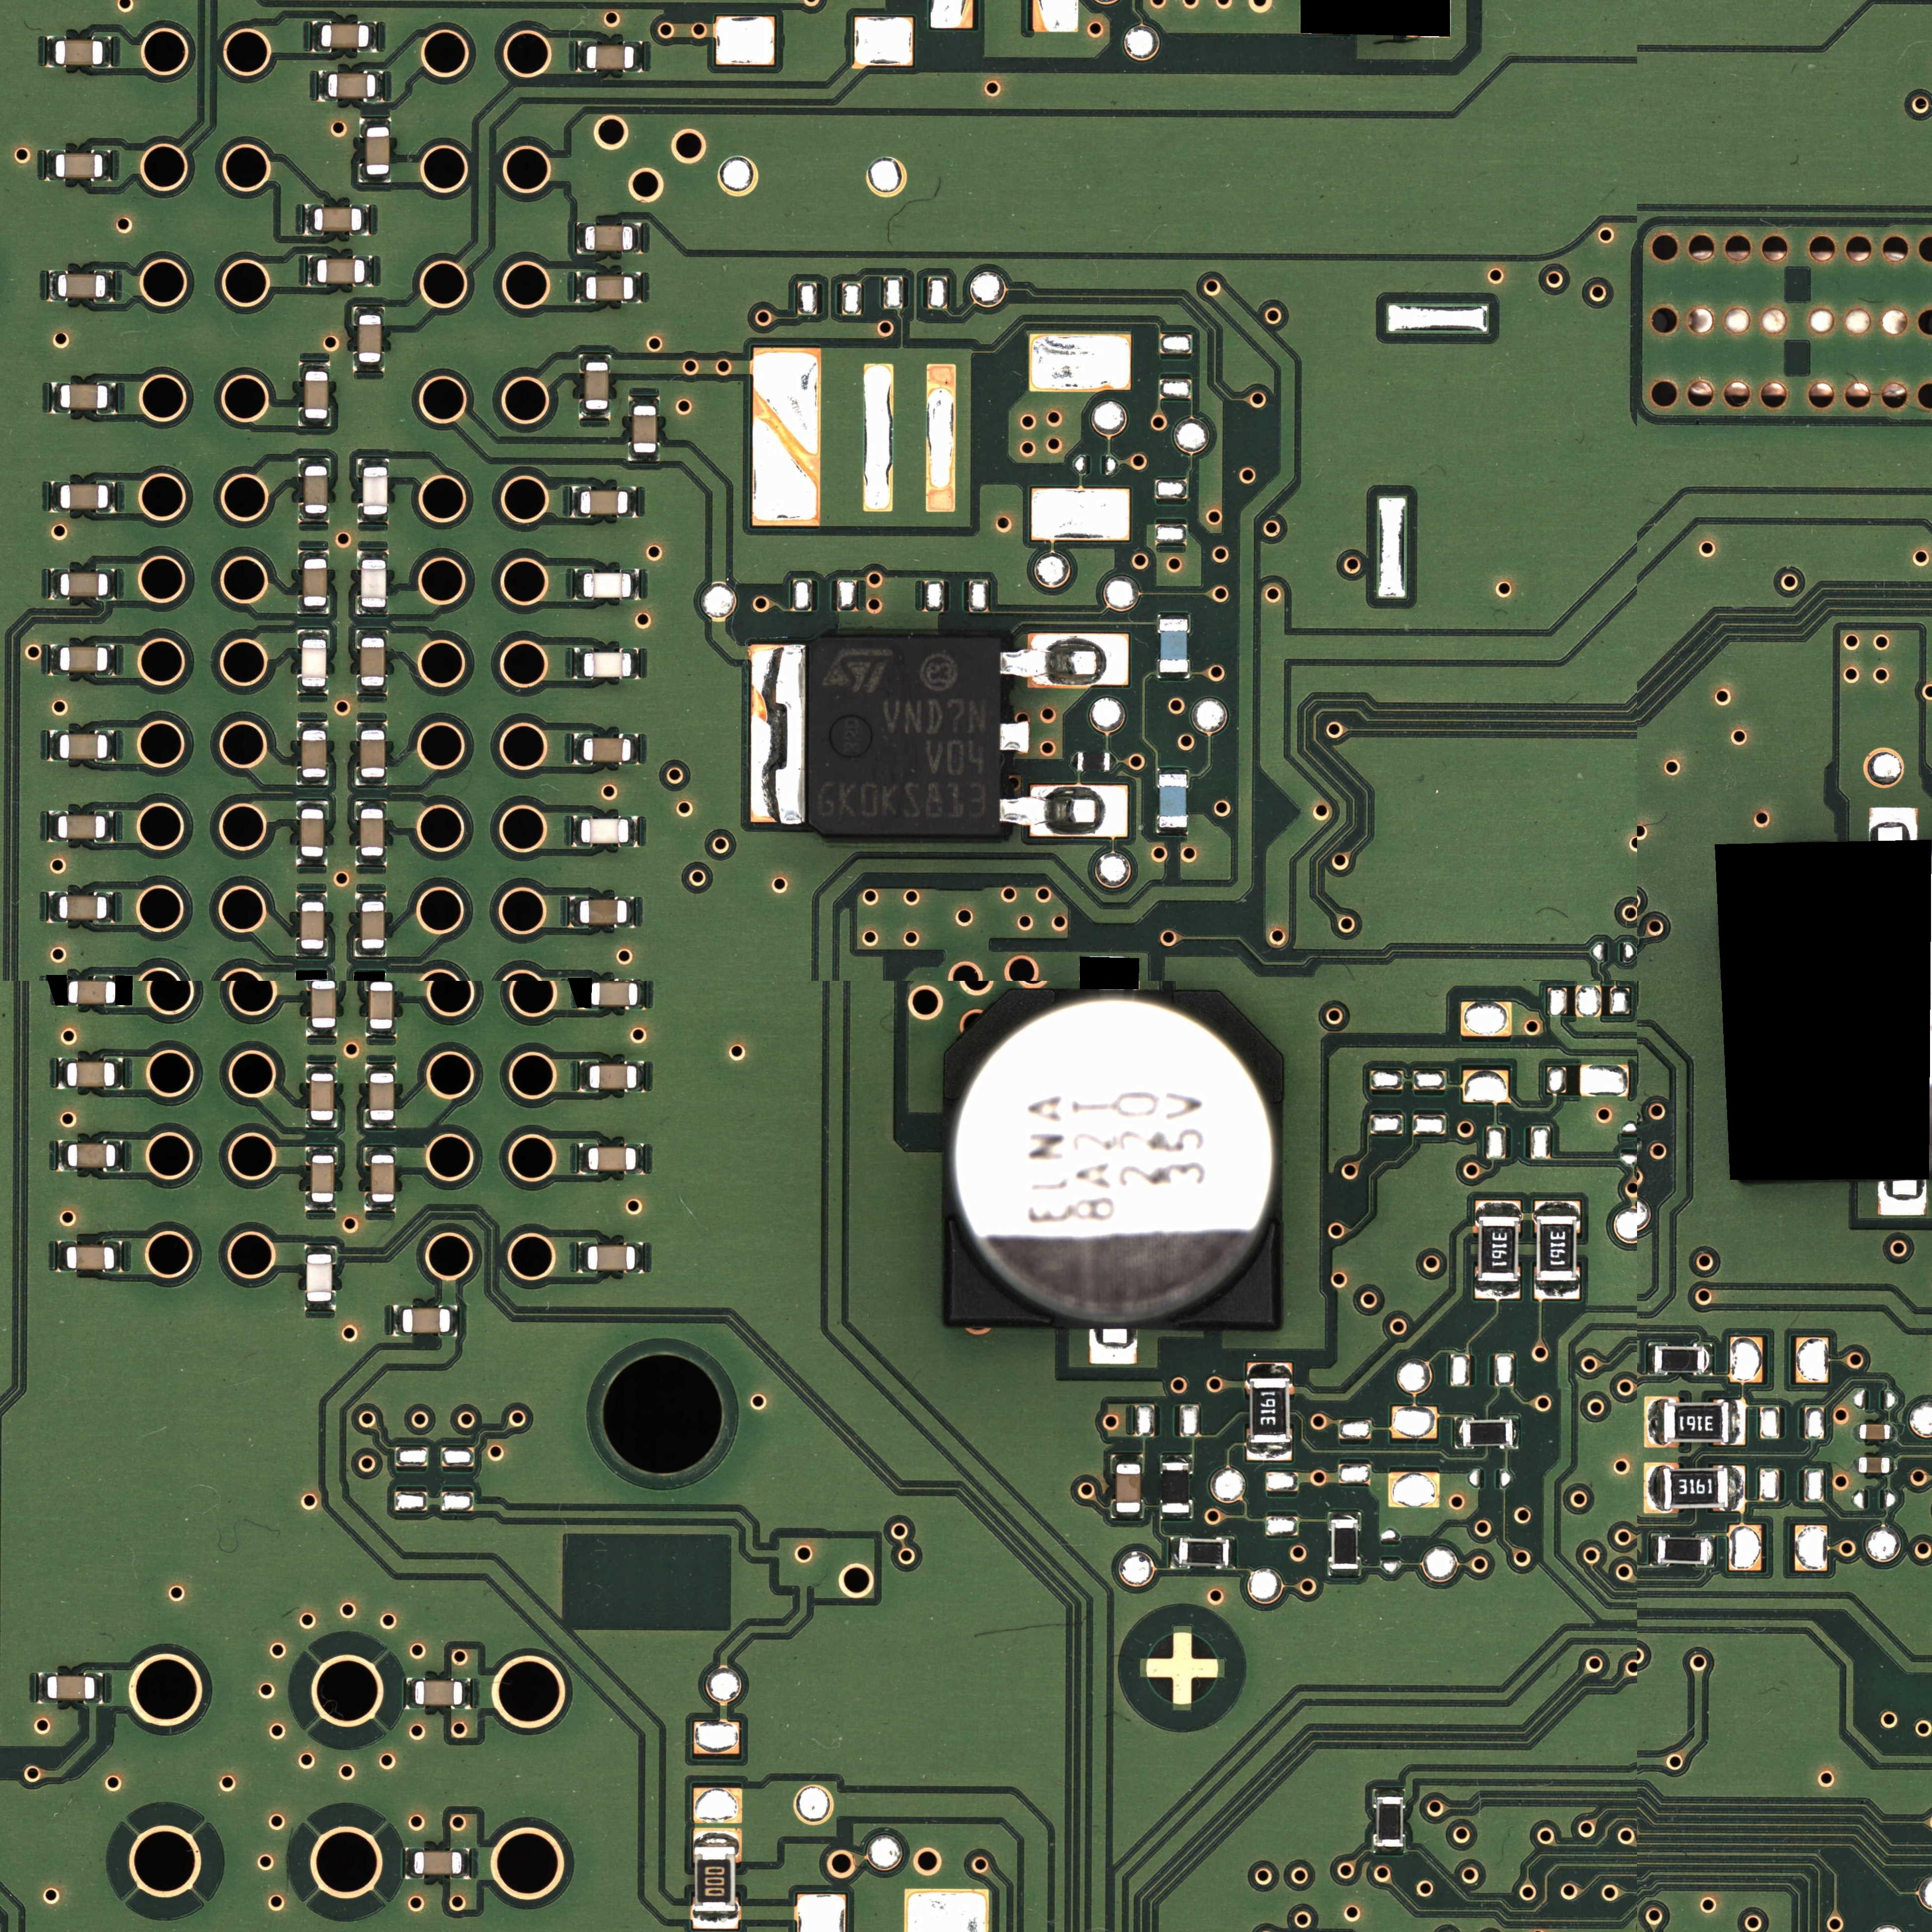Package: (945, 989, 1281, 1328), (808, 639, 1000, 834), (694, 1847, 735, 1912), (1478, 1216, 1518, 1282), (1664, 1402, 1729, 1442), (1663, 1468, 1728, 1508), (1537, 1216, 1577, 1281), (1250, 1379, 1289, 1443), (1160, 619, 1188, 672), (1159, 774, 1187, 827), (1161, 1462, 1189, 1512), (1655, 1347, 1705, 1373), (1377, 1797, 1403, 1846), (1658, 1538, 1708, 1563), (1179, 1540, 1229, 1565), (1462, 1420, 1512, 1446), (1332, 1520, 1357, 1569), (59, 734, 107, 759), (585, 226, 633, 251), (1115, 1464, 1140, 1512), (60, 647, 107, 672), (307, 1254, 332, 1302), (60, 484, 108, 509), (55, 41, 103, 65), (67, 1062, 115, 1087), (402, 1308, 450, 1333), (580, 900, 627, 924), (361, 560, 386, 607), (60, 385, 108, 409), (581, 819, 628, 843), (583, 573, 630, 598), (583, 652, 631, 677), (415, 1681, 462, 1705), (587, 1246, 635, 1270), (59, 896, 107, 920), (317, 259, 365, 284), (363, 468, 387, 515), (370, 1073, 394, 1120), (58, 815, 105, 839), (583, 738, 630, 762), (328, 74, 375, 98), (586, 276, 633, 300), (55, 154, 103, 178), (589, 1065, 637, 1089), (360, 730, 385, 777), (586, 46, 634, 69), (361, 638, 385, 686), (580, 490, 628, 515), (302, 730, 326, 777), (302, 639, 326, 686), (321, 24, 369, 48), (314, 208, 361, 232), (58, 274, 105, 298), (414, 1851, 462, 1875), (588, 1147, 636, 1171), (66, 1246, 114, 1270), (67, 1144, 115, 1167), (48, 1676, 95, 1699), (360, 810, 384, 856), (366, 128, 389, 175), (304, 372, 328, 419), (371, 1155, 394, 1202), (633, 406, 657, 452), (60, 573, 107, 596), (361, 901, 385, 949), (312, 980, 336, 1028), (301, 810, 324, 857), (301, 902, 324, 949), (304, 467, 328, 514), (69, 980, 115, 1004), (303, 559, 327, 606), (310, 1073, 334, 1120), (585, 362, 608, 409), (358, 315, 381, 362), (311, 1156, 334, 1202), (591, 982, 637, 1005), (370, 982, 393, 1028), (1077, 753, 1110, 771), (1859, 1457, 1889, 1473), (1860, 1424, 1890, 1440)
Solder: (750, 642, 807, 824), (1001, 633, 1128, 688), (1000, 784, 1128, 838), (1880, 1179, 1927, 1217), (1869, 806, 1917, 841), (1089, 1329, 1137, 1362), (1644, 1396, 1663, 1448), (1644, 1463, 1663, 1513), (1000, 721, 1029, 753), (1534, 1281, 1580, 1300), (693, 1829, 740, 1846), (692, 1912, 739, 1930), (1474, 1282, 1521, 1299), (1247, 1443, 1292, 1460), (1729, 1400, 1745, 1446), (1729, 1465, 1745, 1511), (1475, 1201, 1521, 1216), (1534, 1201, 1581, 1216), (1247, 1362, 1293, 1378), (573, 733, 583, 764), (569, 896, 579, 927), (574, 648, 584, 679), (318, 71, 328, 101), (303, 204, 314, 235), (311, 21, 321, 51), (37, 1673, 47, 1703), (578, 1242, 587, 1273), (1169, 1536, 1179, 1568), (299, 361, 330, 371), (48, 271, 57, 301), (298, 629, 329, 639), (629, 816, 639, 847), (1112, 1454, 1143, 1464), (45, 150, 55, 180), (297, 892, 327, 902), (108, 383, 117, 414), (50, 382, 60, 413), (306, 1146, 338, 1156), (572, 816, 581, 847), (580, 1061, 589, 1092), (308, 1028, 337, 1038), (360, 118, 391, 127), (103, 150, 112, 181), (48, 892, 58, 922), (48, 811, 57, 842), (49, 730, 59, 761), (358, 550, 388, 560), (306, 1063, 337, 1073), (574, 569, 583, 599), (579, 1143, 588, 1174), (359, 458, 389, 467), (307, 256, 317, 286), (404, 1848, 414, 1878), (95, 1673, 104, 1703), (576, 272, 585, 302), (630, 734, 640, 764), (628, 487, 637, 518), (635, 1243, 644, 1273), (1373, 1787, 1405, 1796), (369, 22, 378, 51), (356, 892, 386, 902), (50, 570, 59, 599), (353, 363, 385, 372), (299, 419, 331, 428), (365, 1203, 396, 1211), (365, 1064, 396, 1073), (631, 569, 640, 600), (358, 629, 387, 638), (462, 1679, 472, 1708), (297, 721, 328, 730), (50, 645, 59, 676), (298, 513, 329, 522), (296, 857, 327, 866), (393, 1305, 402, 1336), (57, 1241, 66, 1271), (58, 1140, 67, 1171), (571, 486, 580, 517), (627, 897, 636, 928), (636, 1144, 645, 1175), (299, 457, 330, 466), (46, 37, 55, 67), (51, 482, 60, 512), (358, 515, 388, 524), (357, 721, 387, 730), (366, 1146, 396, 1155), (305, 1302, 335, 1310), (629, 396, 659, 405), (359, 175, 390, 183), (579, 410, 611, 418), (628, 453, 660, 461), (376, 72, 385, 101), (299, 550, 329, 559), (406, 1678, 415, 1708), (106, 271, 114, 302), (365, 257, 374, 286), (361, 205, 370, 235), (636, 1063, 645, 1092), (356, 857, 386, 865), (58, 1058, 66, 1089), (1161, 1454, 1192, 1463), (1704, 1344, 1713, 1375), (355, 306, 384, 315), (297, 801, 327, 809), (306, 1203, 336, 1211), (305, 1245, 336, 1254), (462, 1849, 470, 1879), (631, 648, 639, 678), (577, 223, 584, 254), (1328, 1569, 1360, 1577), (1330, 1511, 1359, 1519), (356, 777, 387, 785), (106, 811, 114, 842), (1157, 827, 1188, 835), (1647, 1344, 1655, 1375), (365, 1029, 396, 1037), (357, 800, 386, 809), (355, 949, 386, 957), (365, 1120, 395, 1128), (357, 686, 387, 694), (107, 731, 115, 761), (307, 1120, 337, 1128), (578, 41, 586, 71), (1455, 1417, 1463, 1448), (638, 980, 646, 1008), (1158, 673, 1189, 680), (1229, 1537, 1236, 1568), (1512, 1417, 1520, 1448), (1650, 1534, 1657, 1565), (357, 607, 387, 615), (298, 606, 329, 614), (297, 687, 328, 694), (296, 949, 327, 957), (633, 223, 641, 254), (1158, 767, 1188, 774), (1161, 1512, 1192, 1520), (103, 37, 111, 67), (298, 777, 328, 785), (115, 1058, 122, 1088), (1374, 1847, 1404, 1854), (108, 482, 115, 512), (580, 354, 610, 361), (1112, 1512, 1142, 1519), (450, 1306, 458, 1335), (1707, 1537, 1715, 1565), (114, 1241, 121, 1272), (633, 272, 640, 303), (634, 41, 641, 72), (108, 645, 115, 675), (107, 892, 114, 921), (108, 569, 115, 598), (1159, 612, 1189, 619), (116, 1141, 122, 1171), (1071, 753, 1078, 771), (1852, 1424, 1860, 1440), (1851, 1457, 1859, 1473), (1110, 754, 1116, 771), (1890, 1425, 1897, 1440), (1890, 1457, 1896, 1473)
